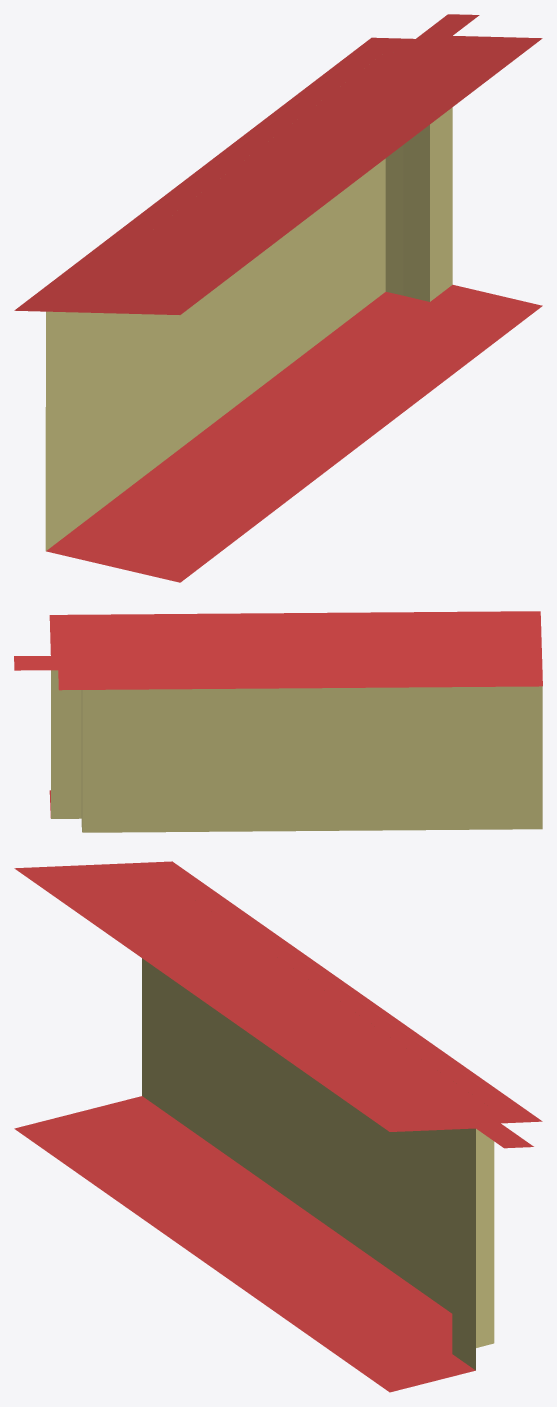
3 renders of one model, top to bottom at view 1: azimuth 30°, elevation 25°; view 2: azimuth 150°, elevation 25°; view 3: azimuth 270°, elevation 25°, orthographic. The views are drawn at different scales.
Size of the model in its own units: 15.27 by 11.22 by 6.09.
